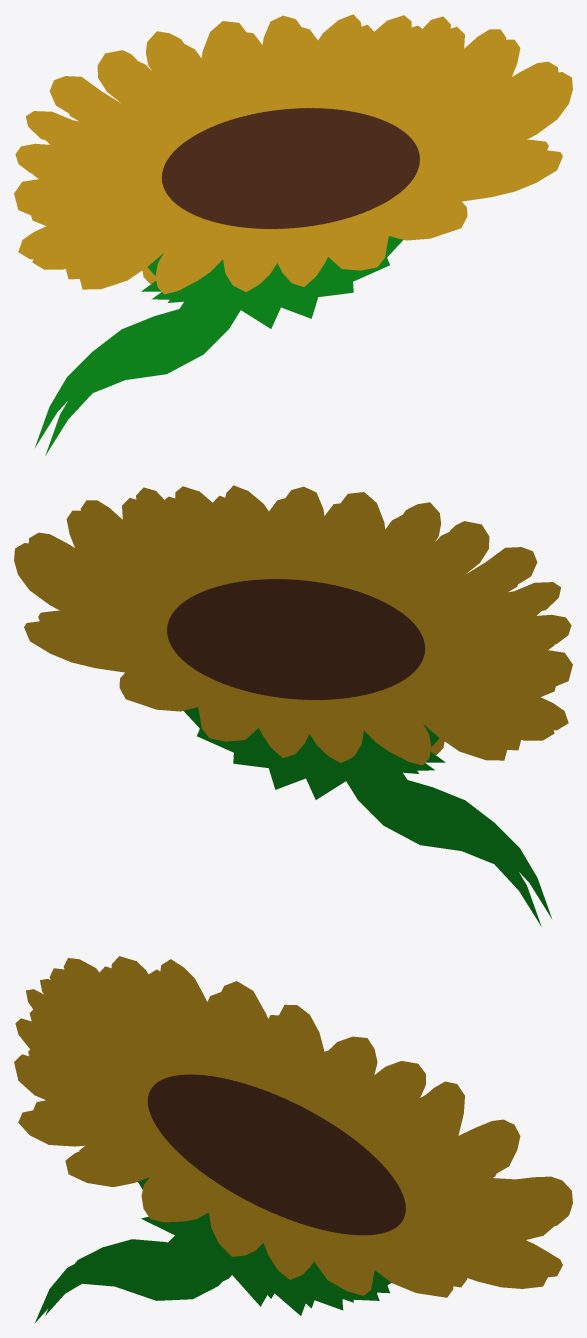
Rendered from himawari_flower.fbx.
The picture shows the model from 3 angles, top to bottom: view 1: azimuth 30°, elevation 25°; view 2: azimuth 150°, elevation 25°; view 3: azimuth 330°, elevation 25°; orthographic projection.
Parts seen in each view (by area): view 1: flower; view 2: flower; view 3: flower.
Boxes of the visible parts, bbox=[...] form: flower: bbox=[14, 14, 572, 455]; flower: bbox=[14, 485, 572, 926]; flower: bbox=[14, 956, 572, 1323].
Bounding box in the file's own units: 358 × 242 × 16.
1 material, 1 textured.
